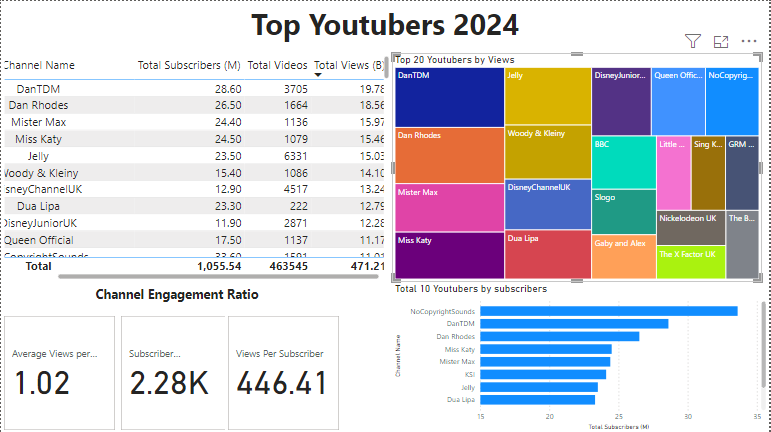

This screenshot's page, from the dashboard's own definition file:
{"tool":"powerbi","page":{"name":"Page 1","canvas":[1280,720],"ordinal":0},"visuals":[{"type":"textbox","box":[404.3,0,470.2,278.7],"z":0},{"type":"tableEx","fields":{"Values":["view_youtubers_2024.Channel_name","view_youtubers_2024.Total Subscribers (M)","view_youtubers_2024.Total Videos","view_youtubers_2024.Total Views (B)"]},"box":[0,86.7,651.7,381.7],"z":1000},{"type":"cardVisual","fields":{"Data":["view_youtubers_2024.Average Views per Video (M)"]},"box":[0,520,195,200],"z":2000},{"type":"treemap","title":"Top 10 Youtubers by Views","fields":{"Group":["view_youtubers_2024.Channel_name"],"Values":["view_youtubers_2024.Total Views (B)"]},"box":[651.7,86.7,616.7,381.7],"z":3000},{"type":"cardVisual","fields":{"Data":["view_youtubers_2024.Subscriber Engagement Rate"]},"box":[195,520,195,200],"z":4000},{"type":"cardVisual","fields":{"Data":["view_youtubers_2024.Views Per Subscriber"]},"box":[373.3,520,195,200],"z":5000},{"type":"clusteredBarChart","title":"Total 10 Youtubers by subscribers","fields":{"Category":["view_youtubers_2024.Channel_name"],"Y":["view_youtubers_2024.Total Subscribers (M)"]},"box":[651.7,468.3,628.3,251.7],"z":5001},{"type":"textbox","box":[143.3,468.3,300,40],"z":5002}]}

Visuals, with their boxes on the page's 1280x720 design canvas (x1, y1, x2, y2). These are canvas units, not pixel positions in the 771x432 screenshot, which may show the page scaled, cropped or inside an application window:
textbox: (x1=404, y1=0, x2=874, y2=279)
tableEx - view_youtubers_2024.Channel_name x view_youtubers_2024.Total Subscribers (M): (x1=0, y1=87, x2=652, y2=468)
cardVisual - view_youtubers_2024.Average Views per Video (M): (x1=0, y1=520, x2=195, y2=720)
"Top 10 Youtubers by Views" treemap: (x1=652, y1=87, x2=1268, y2=468)
cardVisual - view_youtubers_2024.Subscriber Engagement Rate: (x1=195, y1=520, x2=390, y2=720)
cardVisual - view_youtubers_2024.Views Per Subscriber: (x1=373, y1=520, x2=568, y2=720)
"Total 10 Youtubers by subscribers" clusteredBarChart: (x1=652, y1=468, x2=1280, y2=720)
textbox: (x1=143, y1=468, x2=443, y2=508)
